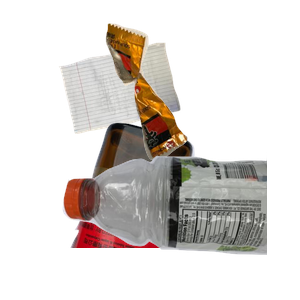glass: (68, 120, 255, 300)
paper: (56, 40, 229, 166)
plastic: (60, 152, 300, 300)
trash: (103, 21, 300, 174)
